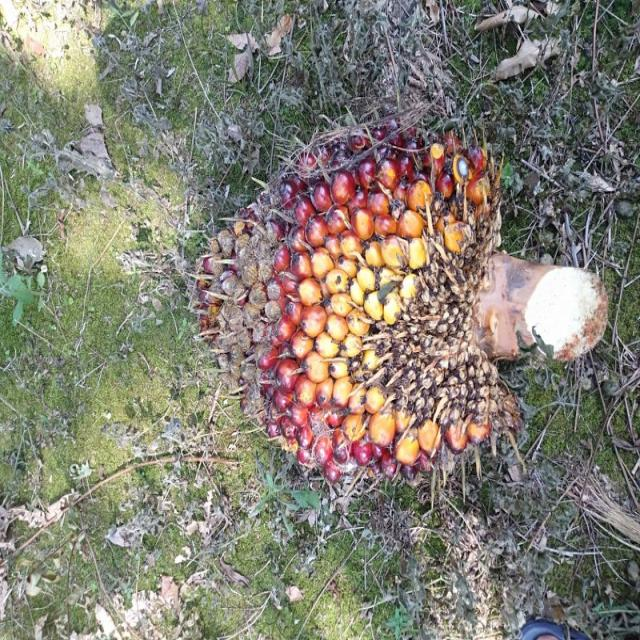fraksi 1: (201, 110, 515, 488)
